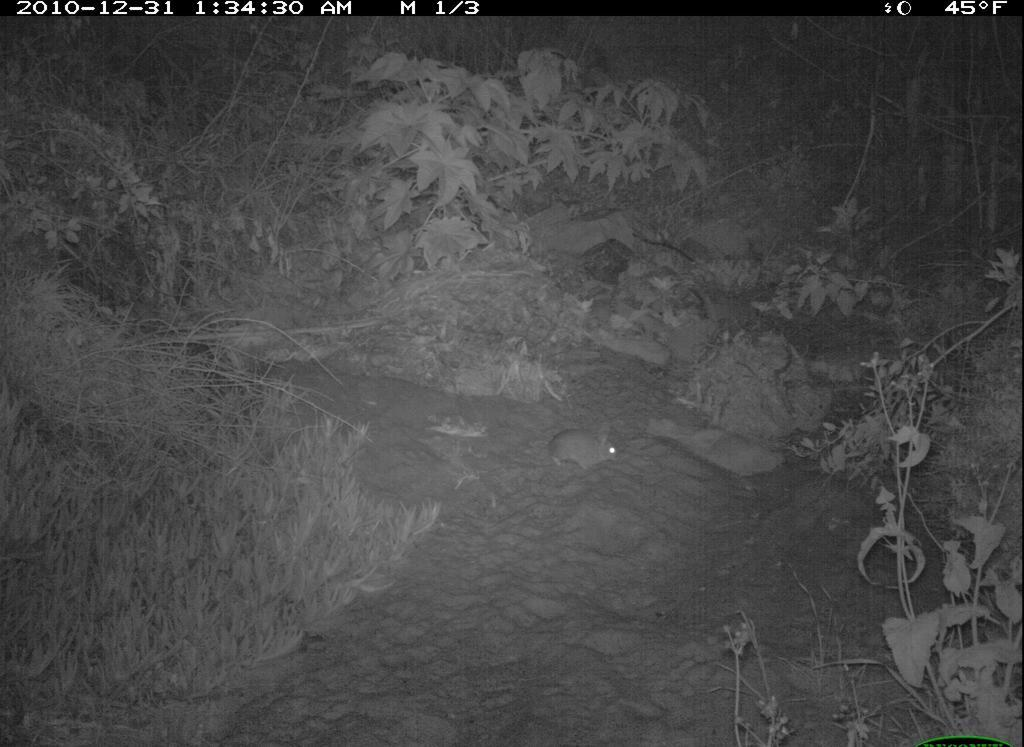rabbit: (520, 415, 637, 484)
